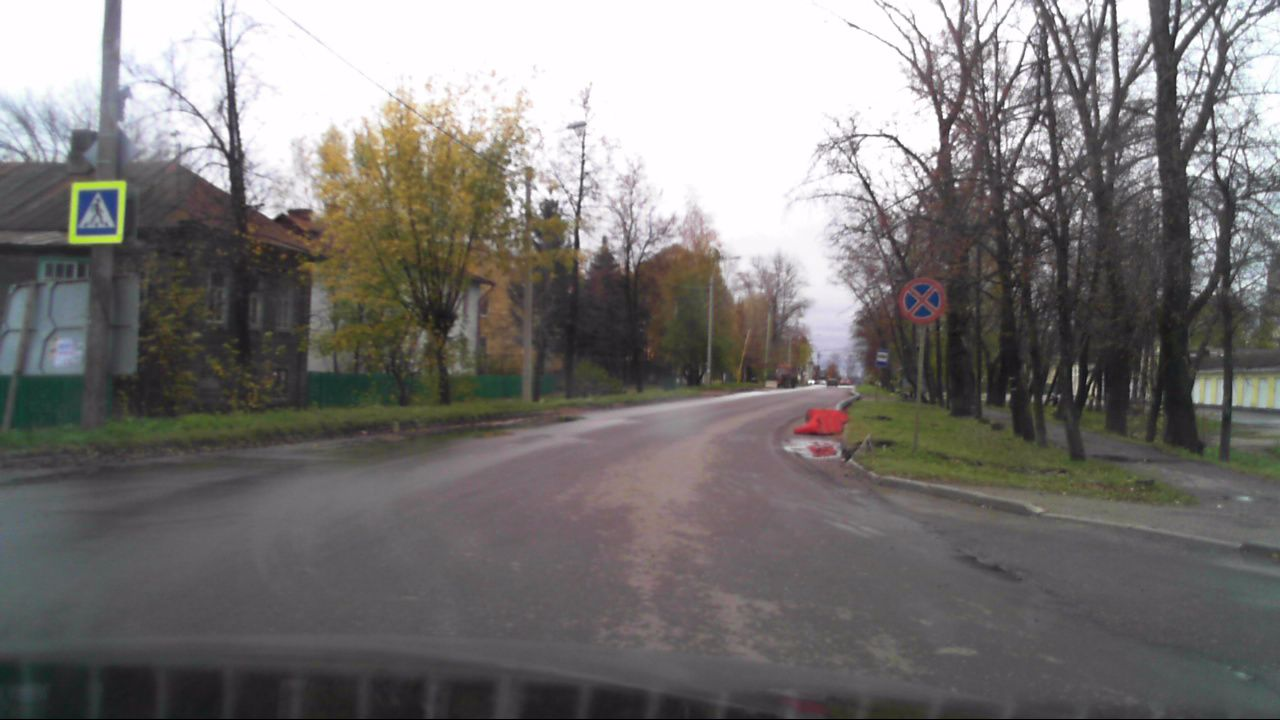No Parking: (900, 277, 944, 326)
